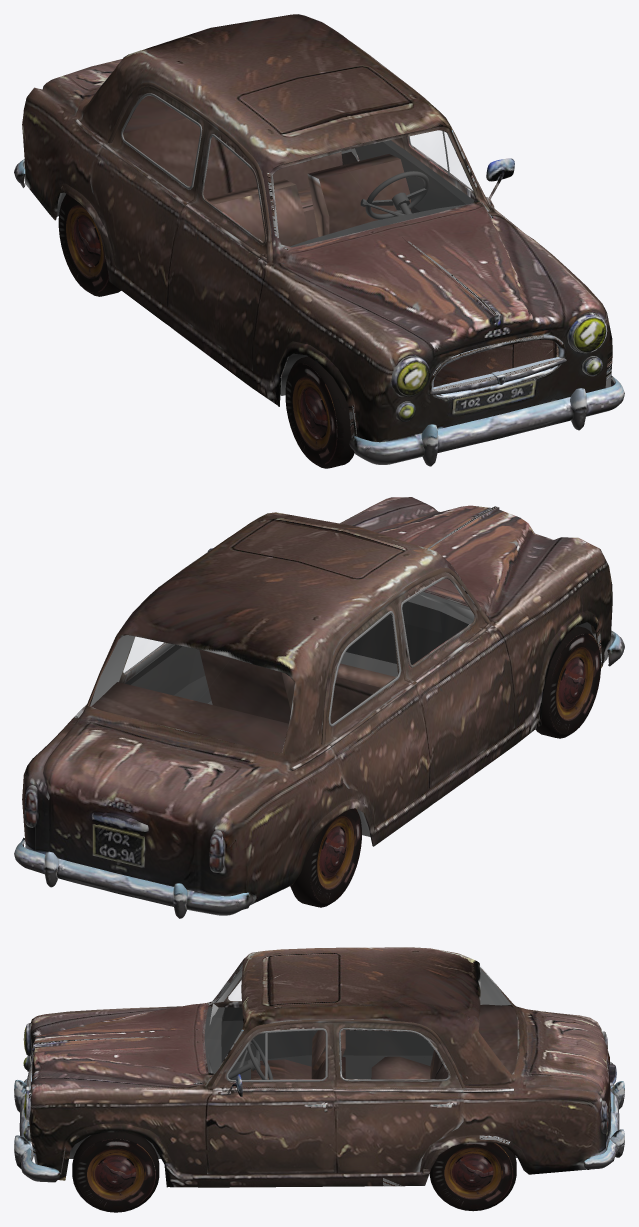
3 views of the same model, one above another, from view 1: azimuth 30°, elevation 25°; view 2: azimuth 150°, elevation 25°; view 3: azimuth 270°, elevation 25° (orthographic). The views are drawn at different scales.
Visible parts, largest first — view 1: carroserie, roues; view 2: carroserie, roues, filles; view 3: carroserie, roues, filles.
Part boxes in pixels (<box>): carroserie: <box>14,14,624,466</box>; roues: <box>58,152,357,468</box>; carroserie: <box>14,497,624,918</box>; roues: <box>290,626,600,907</box>; filles: <box>90,594,474,752</box>; carroserie: <box>14,947,624,1187</box>; roues: <box>72,1132,516,1212</box>; filles: <box>208,968,511,1073</box>.
Size of the model in its own units: 186 by 154 by 448.
